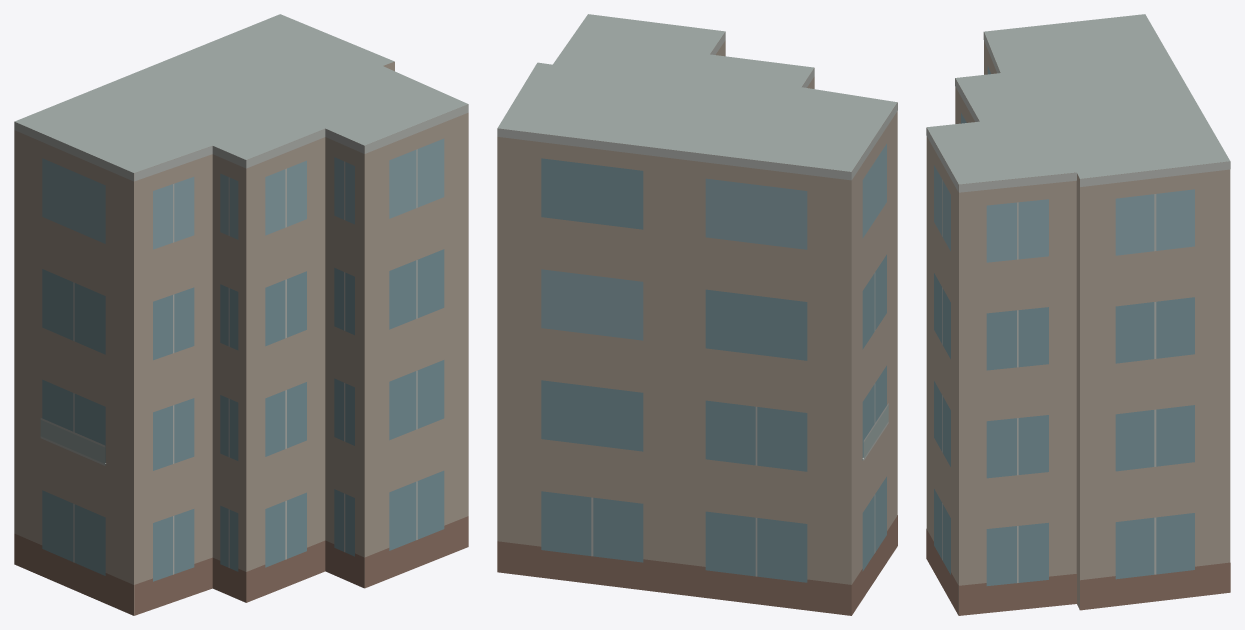
Rendered from survey-upis-32485202.glb.
3 views of the same model, side by side, from view 1: azimuth 30°, elevation 25°; view 2: azimuth 150°, elevation 25°; view 3: azimuth 270°, elevation 25° (orthographic). The views are drawn at different scales.
Parts seen in each view (by area): view 1: survey-upis-32485202.tmp; view 2: survey-upis-32485202.tmp; view 3: survey-upis-32485202.tmp.
Part boxes in pixels (x1,y1,x2,y2): survey-upis-32485202.tmp: (14,14,468,615); survey-upis-32485202.tmp: (497,14,897,615); survey-upis-32485202.tmp: (926,14,1230,615).
Bounding box in the file's own units: 10.86 × 12.8 × 8.19.
